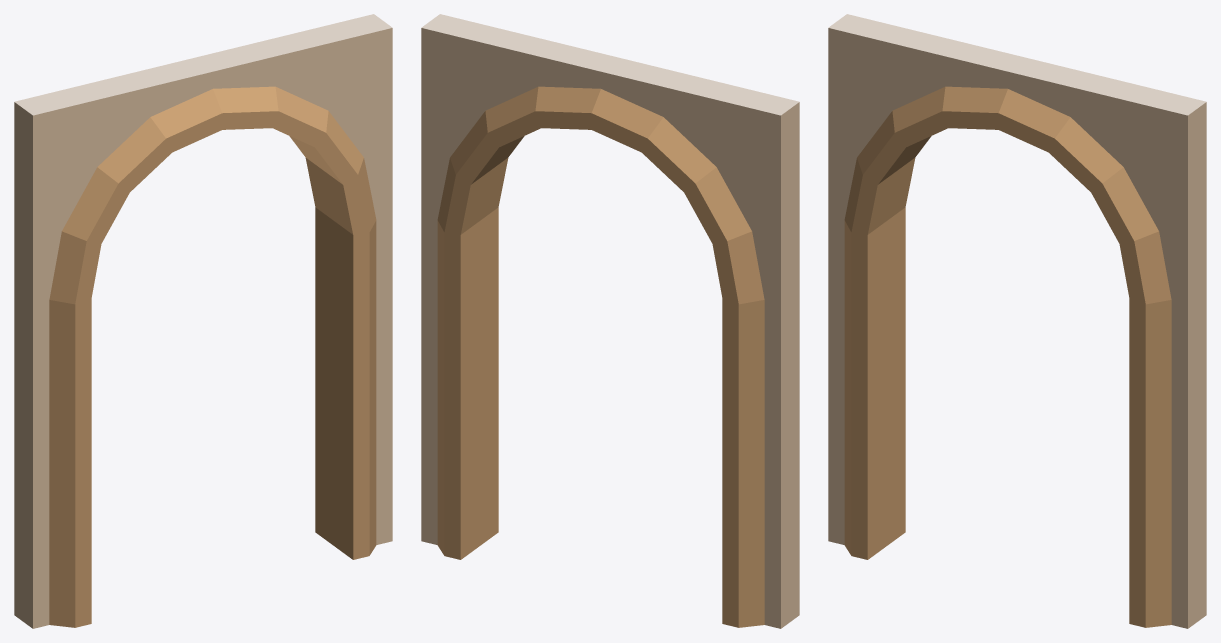
Rendered from Wall_Straight_Doorway_Large.fbx.
The picture shows the model from 3 angles, left to right: view 1: azimuth 30°, elevation 25°; view 2: azimuth 150°, elevation 25°; view 3: azimuth 330°, elevation 25°; orthographic projection.
Visible parts, largest first — view 1: object2, Sandstone_Trim.object1, Sandstone_Floor; view 2: object2, Sandstone_Trim.object1, Sandstone_Floor; view 3: object2, Sandstone_Trim.object1, Sandstone_Floor.
Part boxes in pixels (x1,y1,x2,y2): object2: (49, 86, 376, 627); Sandstone_Trim.object1: (14, 28, 392, 628); Sandstone_Floor: (14, 14, 392, 115); object2: (437, 86, 764, 627); Sandstone_Trim.object1: (421, 28, 799, 628); Sandstone_Floor: (421, 14, 799, 115); object2: (844, 86, 1171, 627); Sandstone_Trim.object1: (828, 28, 1206, 628); Sandstone_Floor: (828, 14, 1206, 115).
Bounding box in the file's own units: 2.2 × 3 × 0.4.
